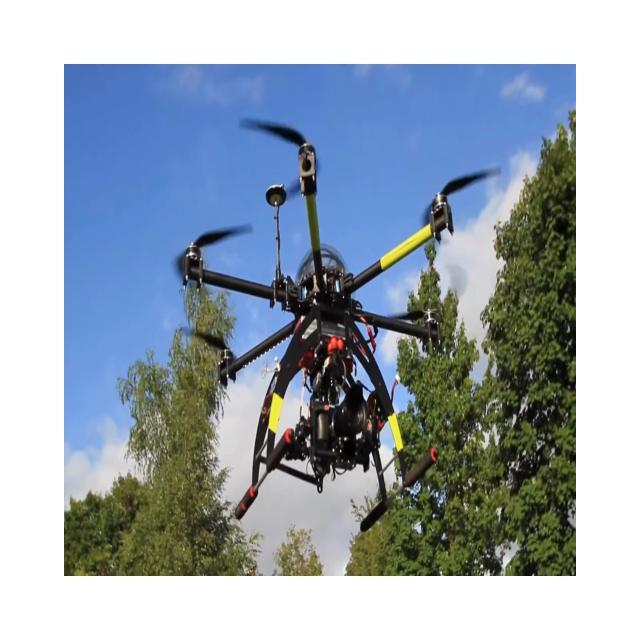drone: (176, 114, 502, 533)
